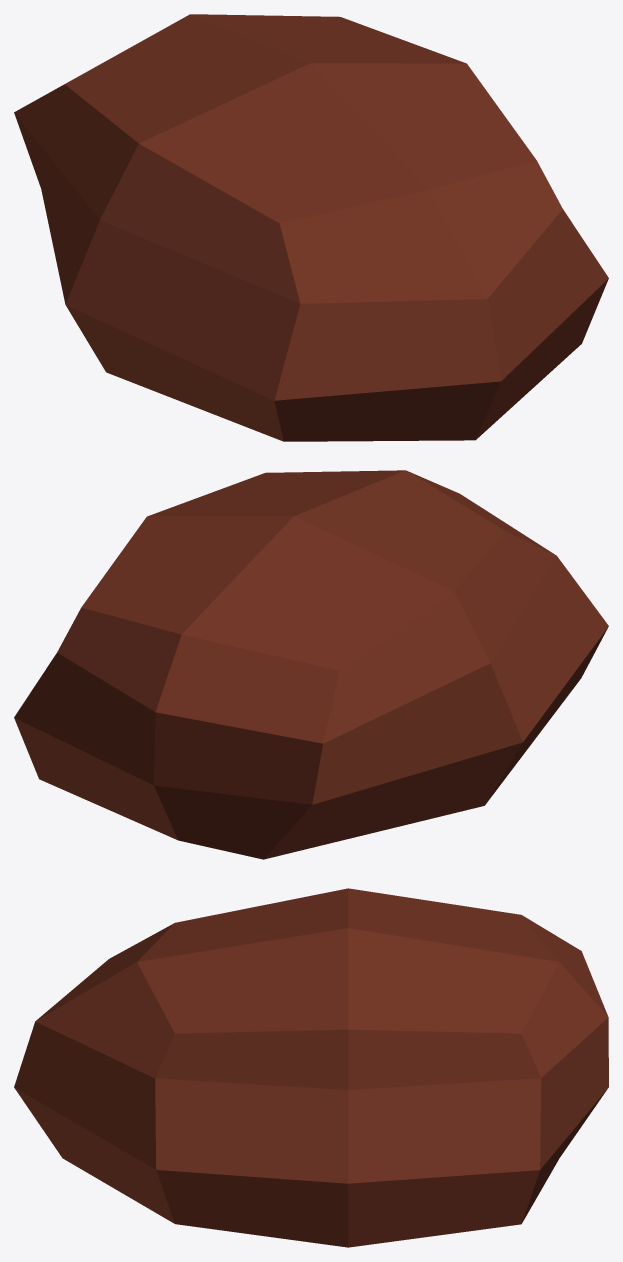
File: Stone-1.fbx
3 views of the same model, one above another, from view 1: azimuth 30°, elevation 25°; view 2: azimuth 150°, elevation 25°; view 3: azimuth 270°, elevation 25° (orthographic). The views are drawn at different scales.
Visible parts, largest first — view 1: Stone-1; view 2: Stone-1; view 3: Stone-1.
Part boxes in pixels (x1,y1,x2,y2): Stone-1: (14,14,608,441); Stone-1: (14,470,608,859); Stone-1: (14,888,608,1247).
Size of the model in its own units: 294 by 169 by 367.
